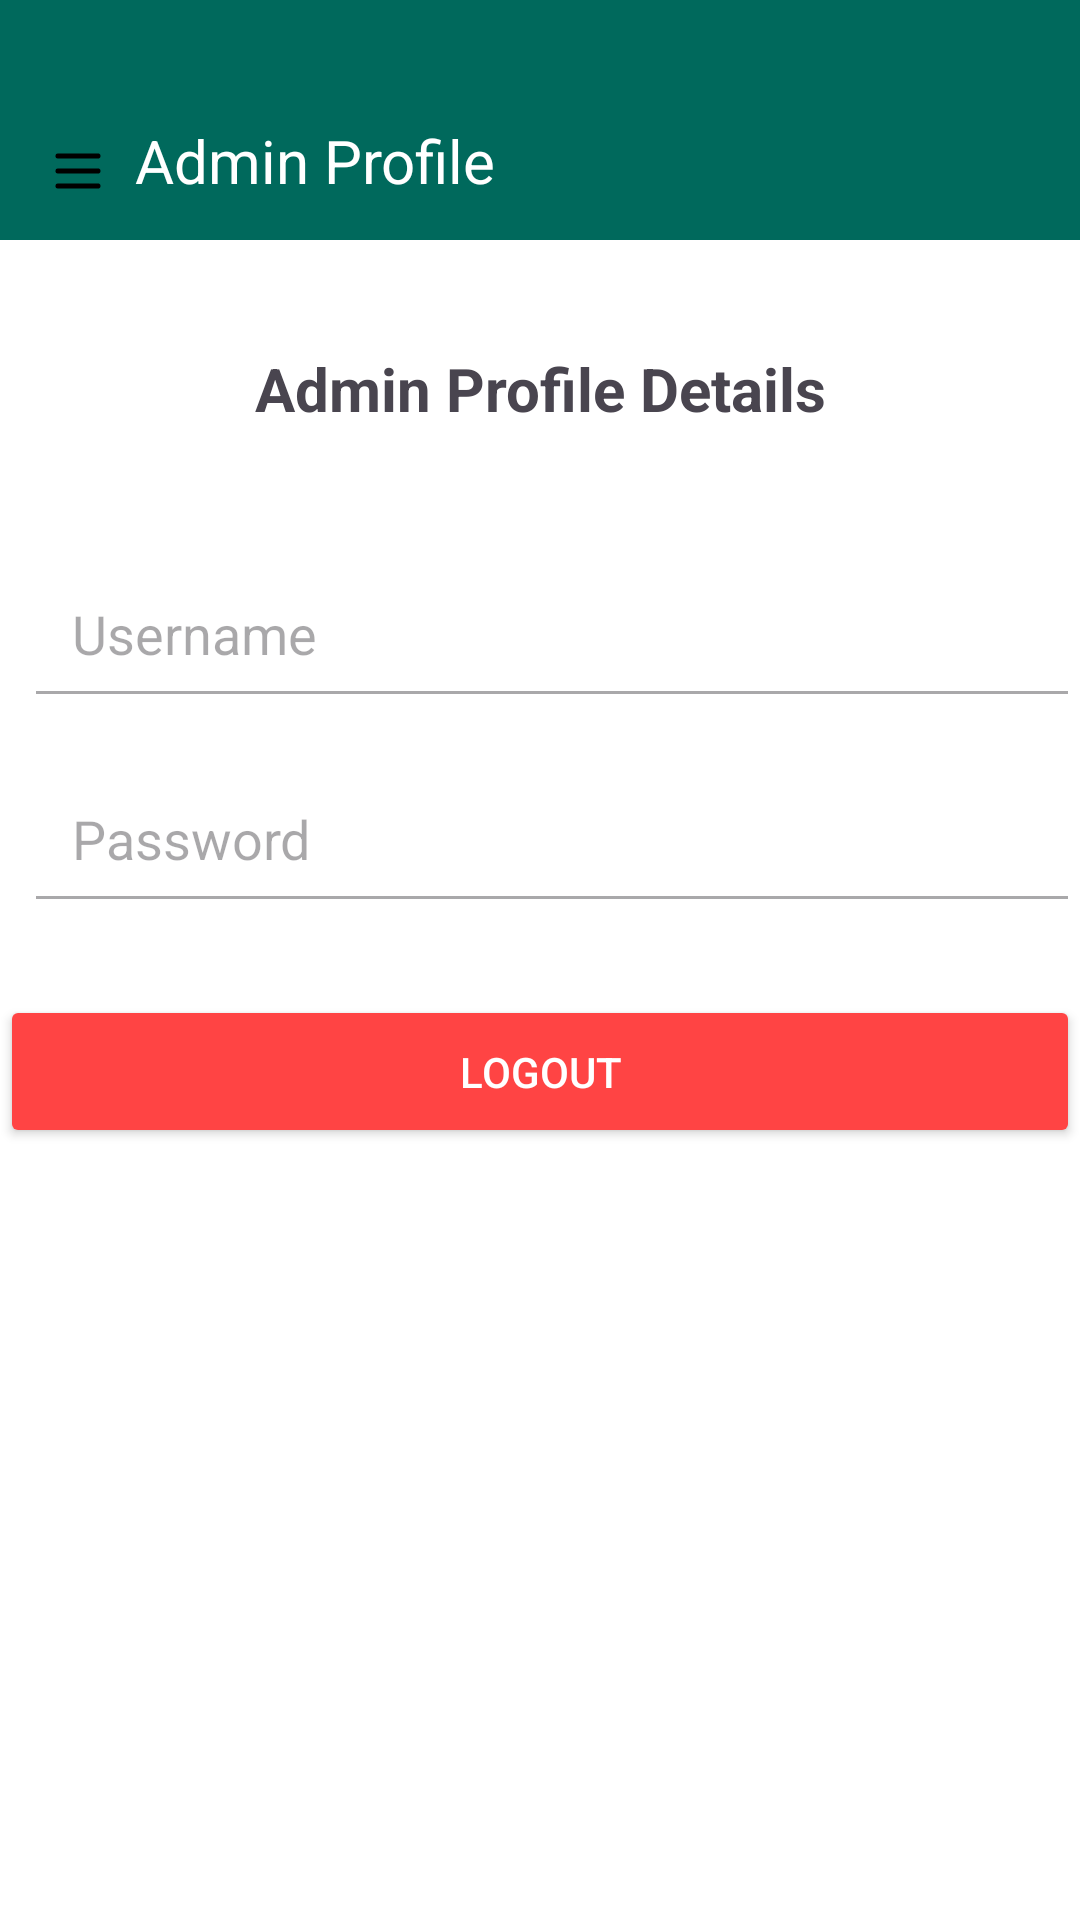

Point at icon controls on the screen. Image size 1080px x 1920px, points as (x,y).
Menu: (78,171)
